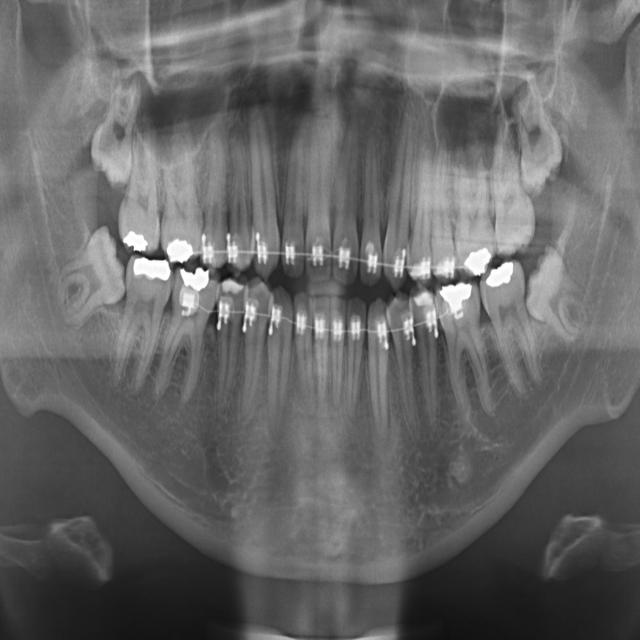AmalgamRestoration: (134, 250, 174, 287), (486, 260, 517, 298), (439, 280, 472, 315), (178, 262, 213, 290), (464, 244, 492, 276), (123, 223, 149, 251), (167, 239, 196, 264)
ImpactedTooth: (88, 72, 150, 189), (54, 216, 124, 318), (528, 231, 590, 341), (512, 82, 566, 193)
